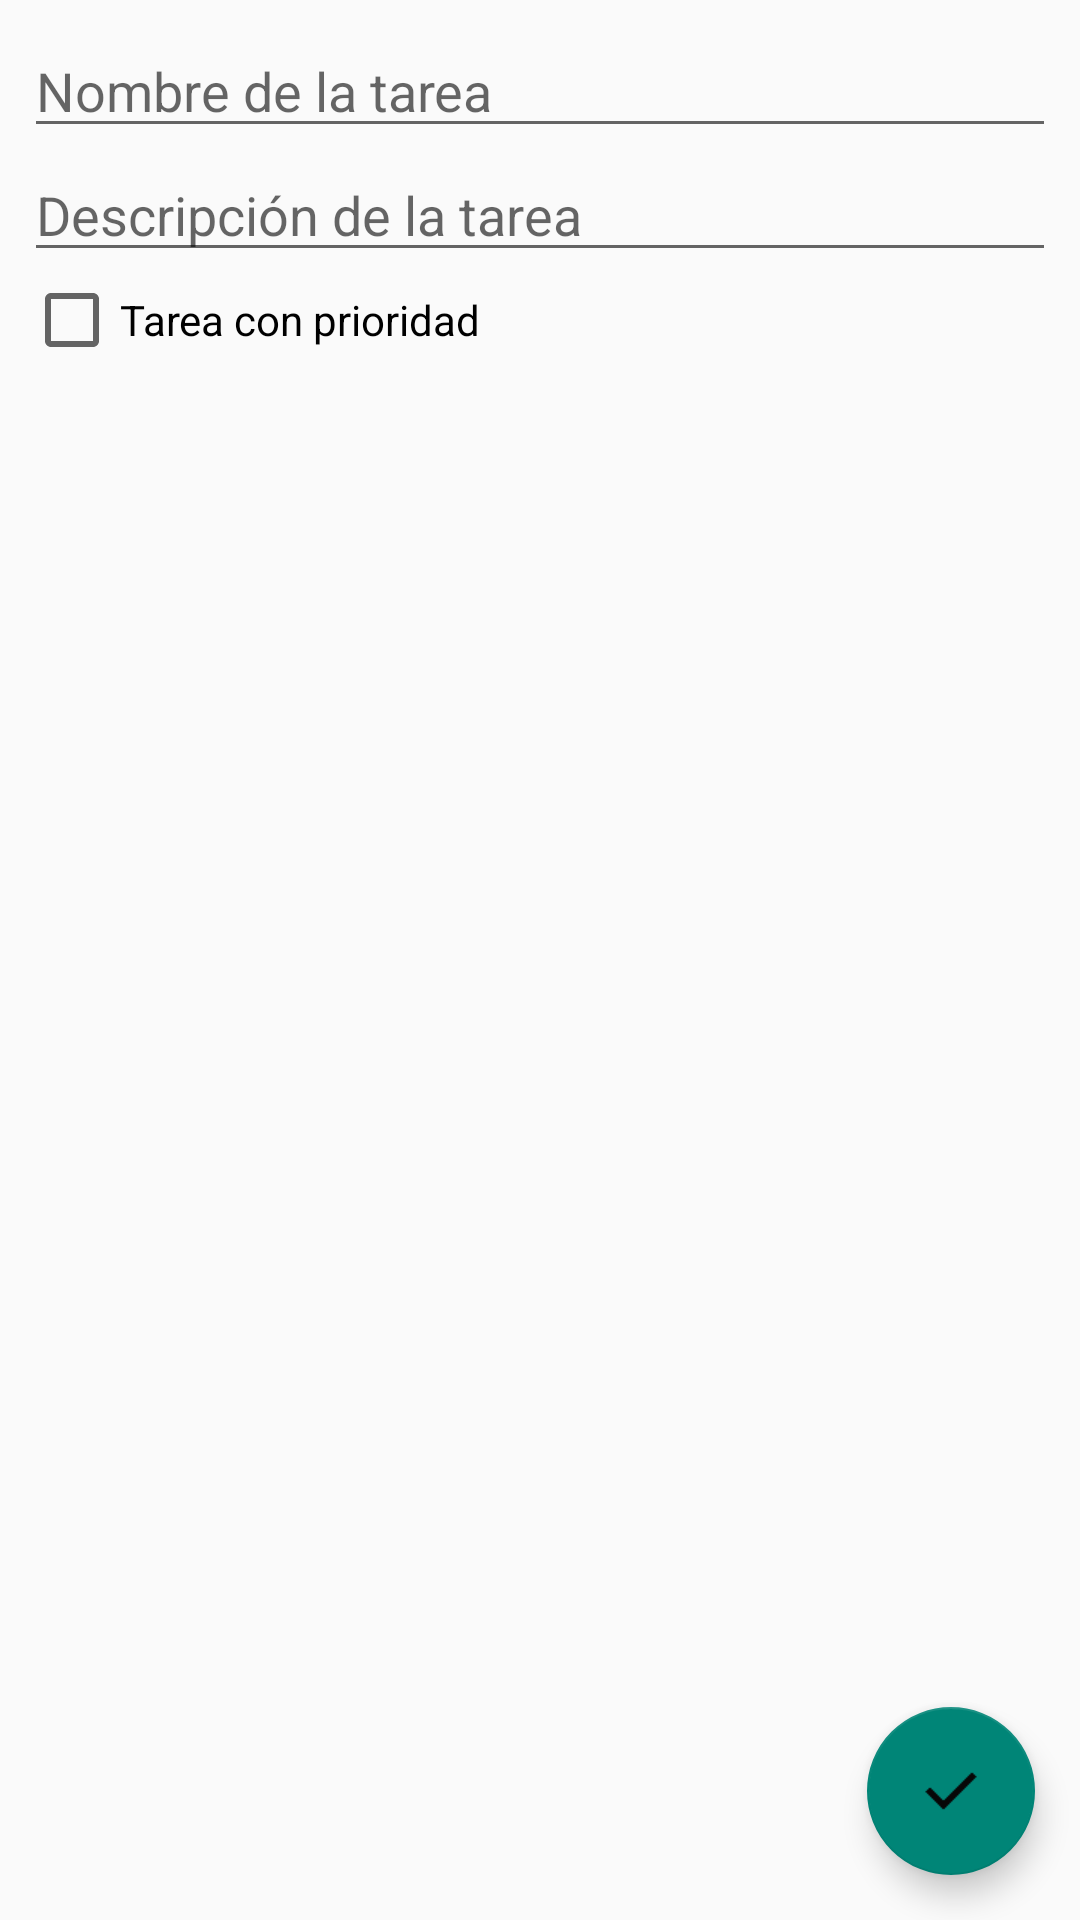

Where to tap for icons on this 1080 x 1920 app screen, as (x,y):
check: (951,1791)
